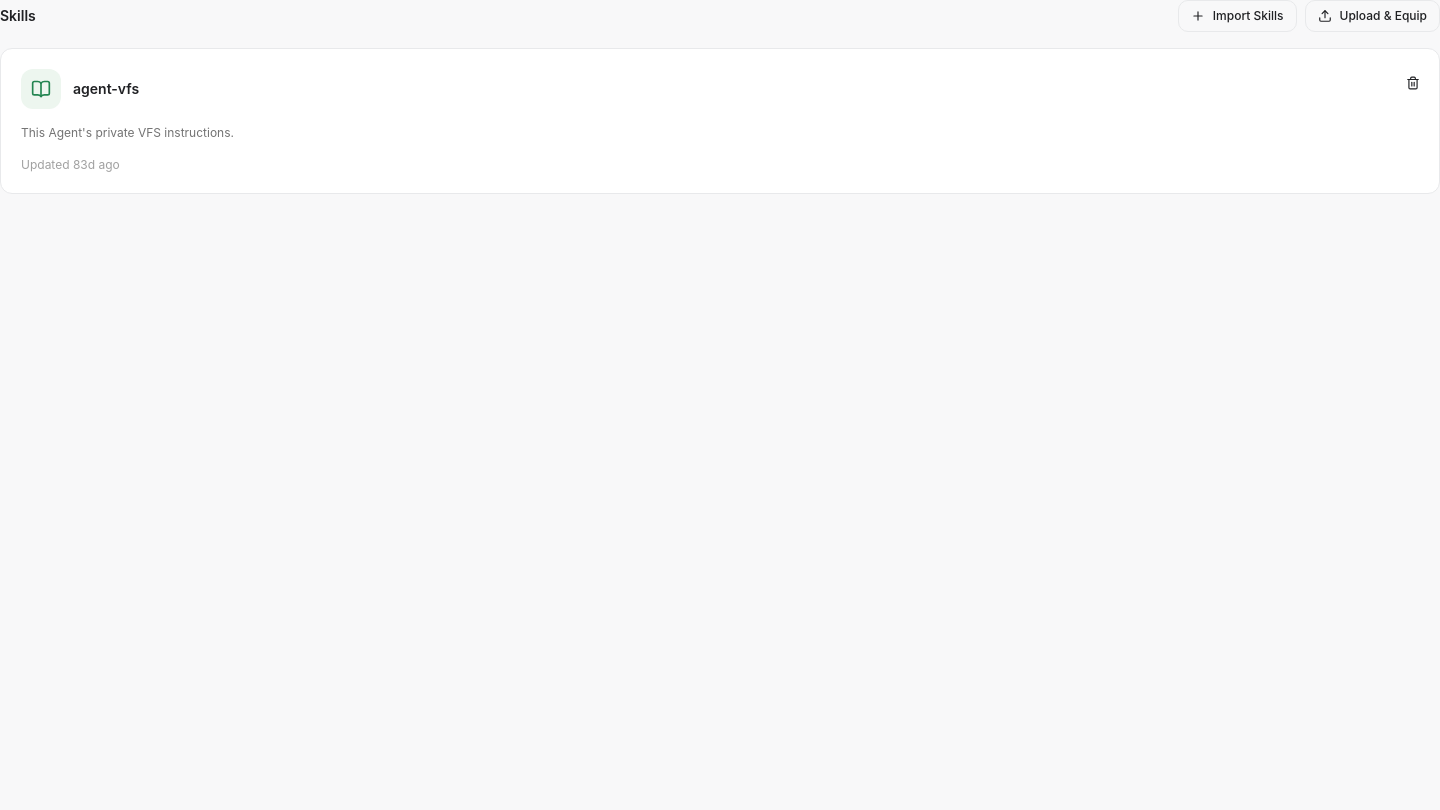
Scenario: Agent Skills › searches and bulk equips only selected Library Skills
Click the button "Import Skills": x=1237, y=16 top-left (1178, 0), bottom-right (1296, 32)
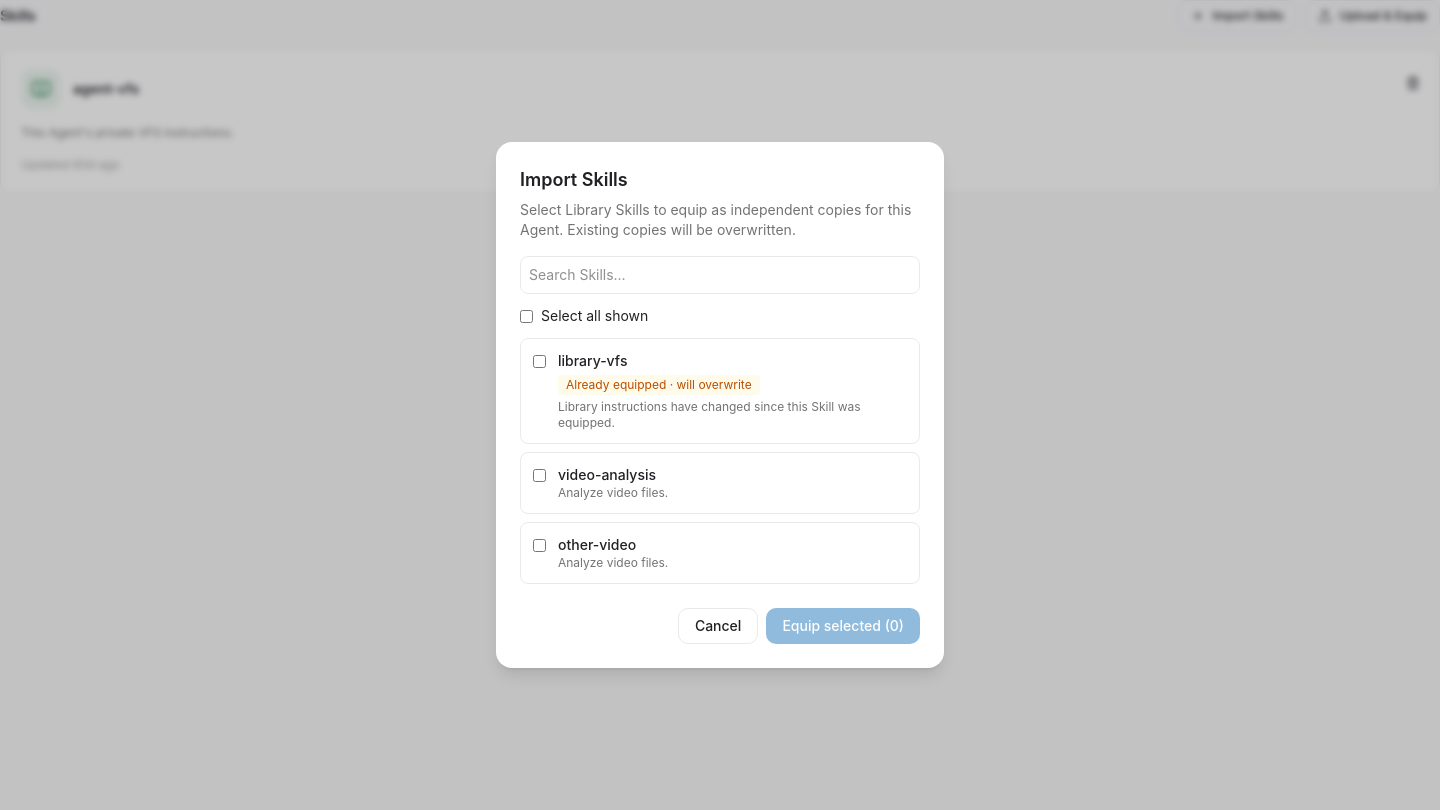
In the field labelled "Search Skills": x=720, y=275 top-left (520, 256), bottom-right (920, 294), type "video"
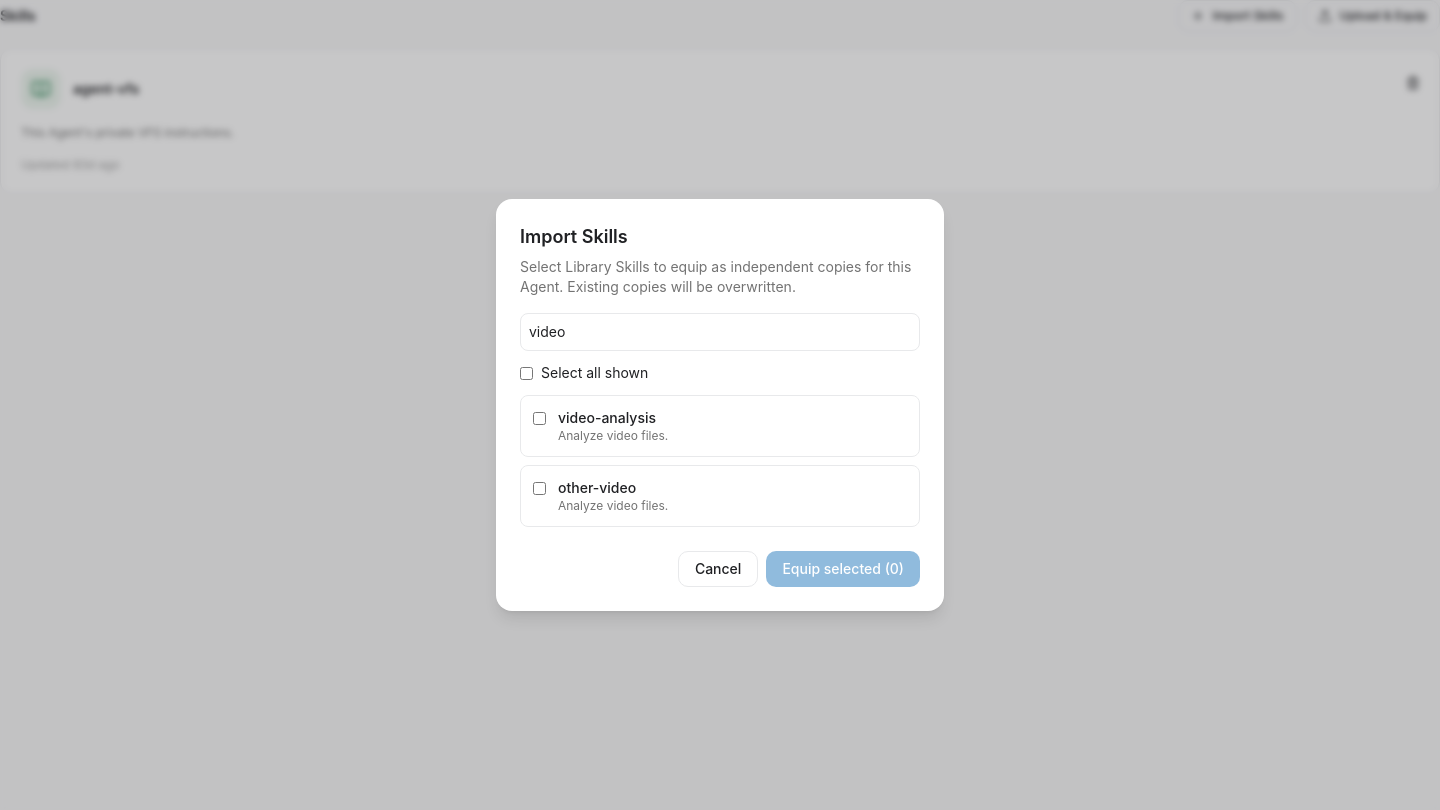
Click the checkbox labelled "Select all shown": x=526, y=373 top-left (520, 366), bottom-right (533, 380)
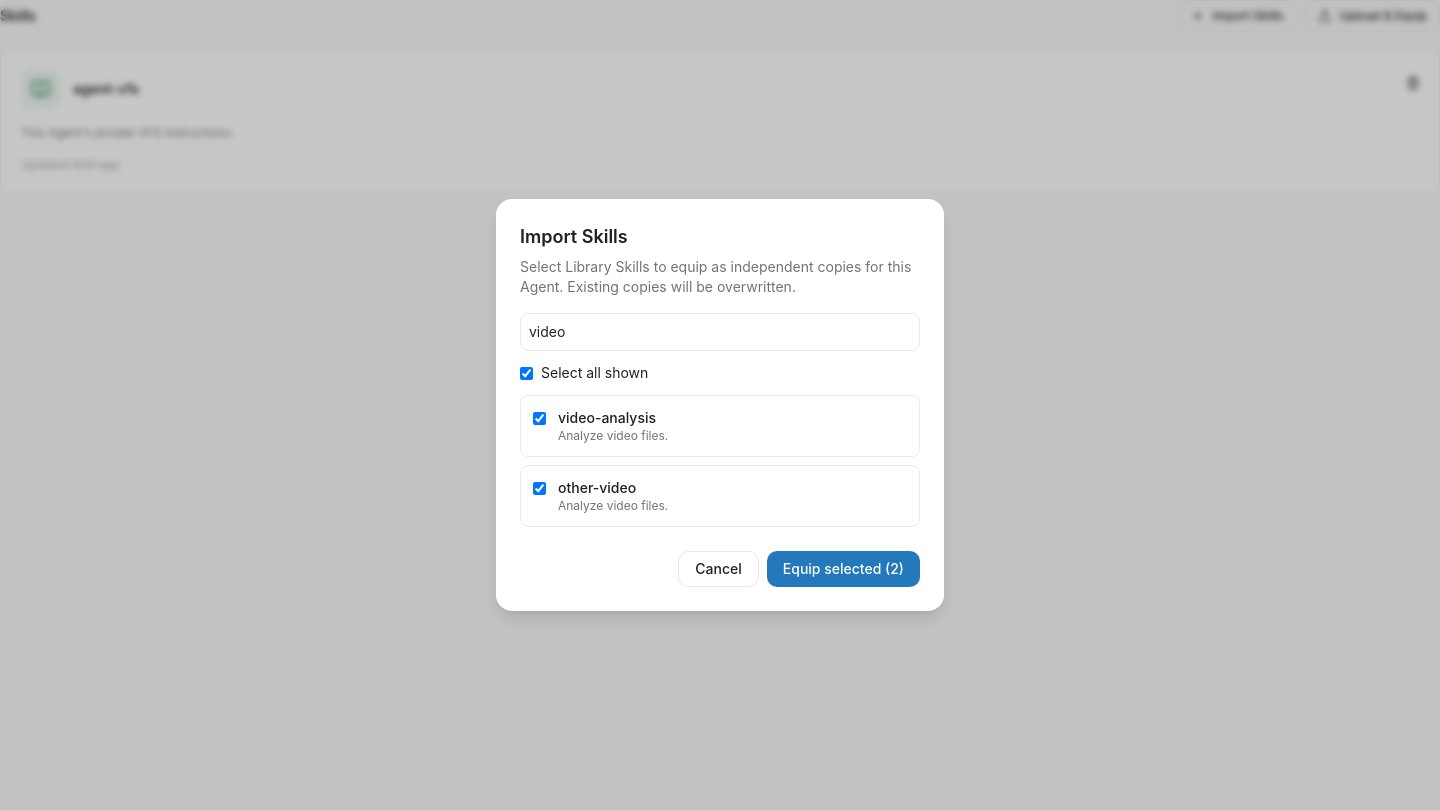
Click the button "Equip selected (2)": x=843, y=569 top-left (767, 551), bottom-right (920, 587)
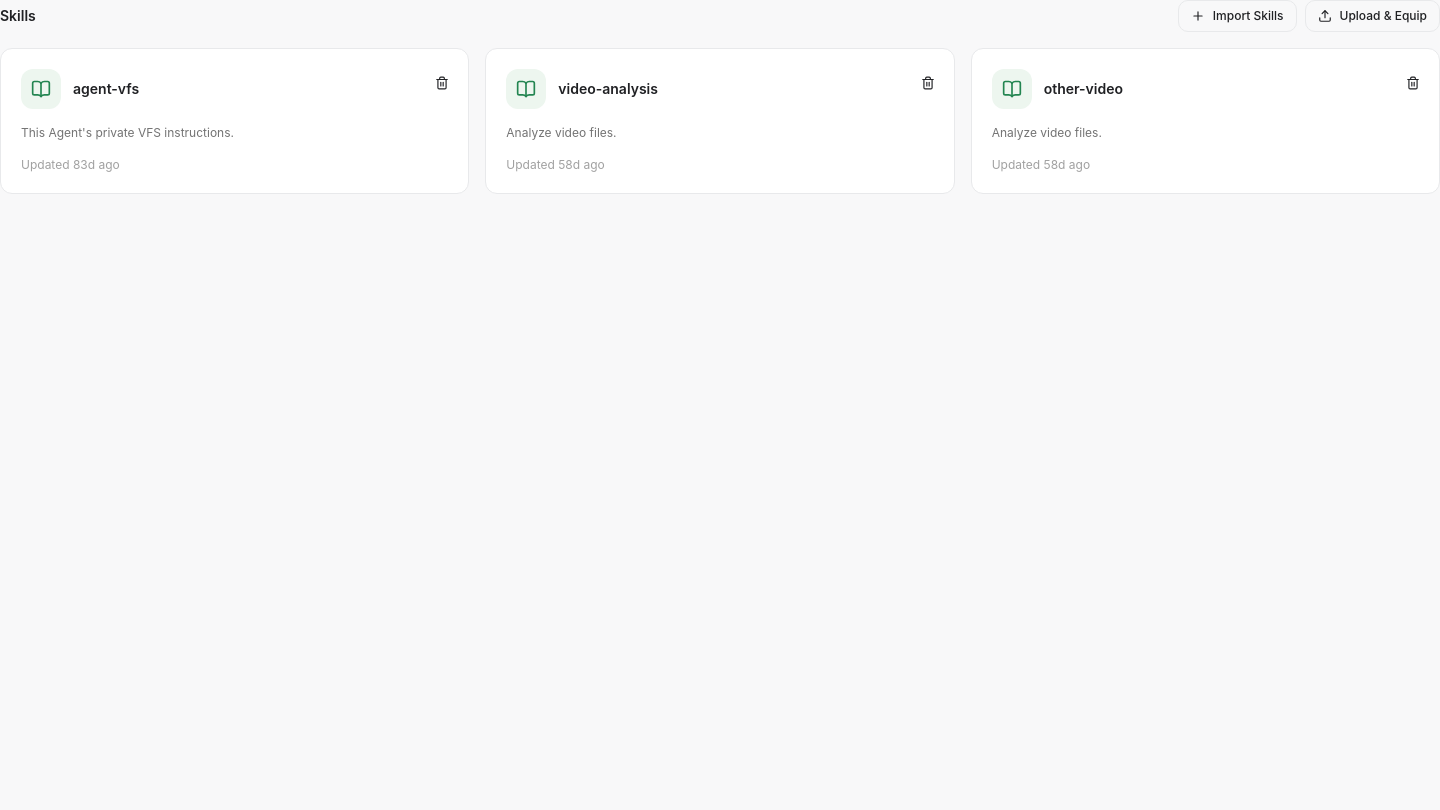
Expected: the dialog is gone
